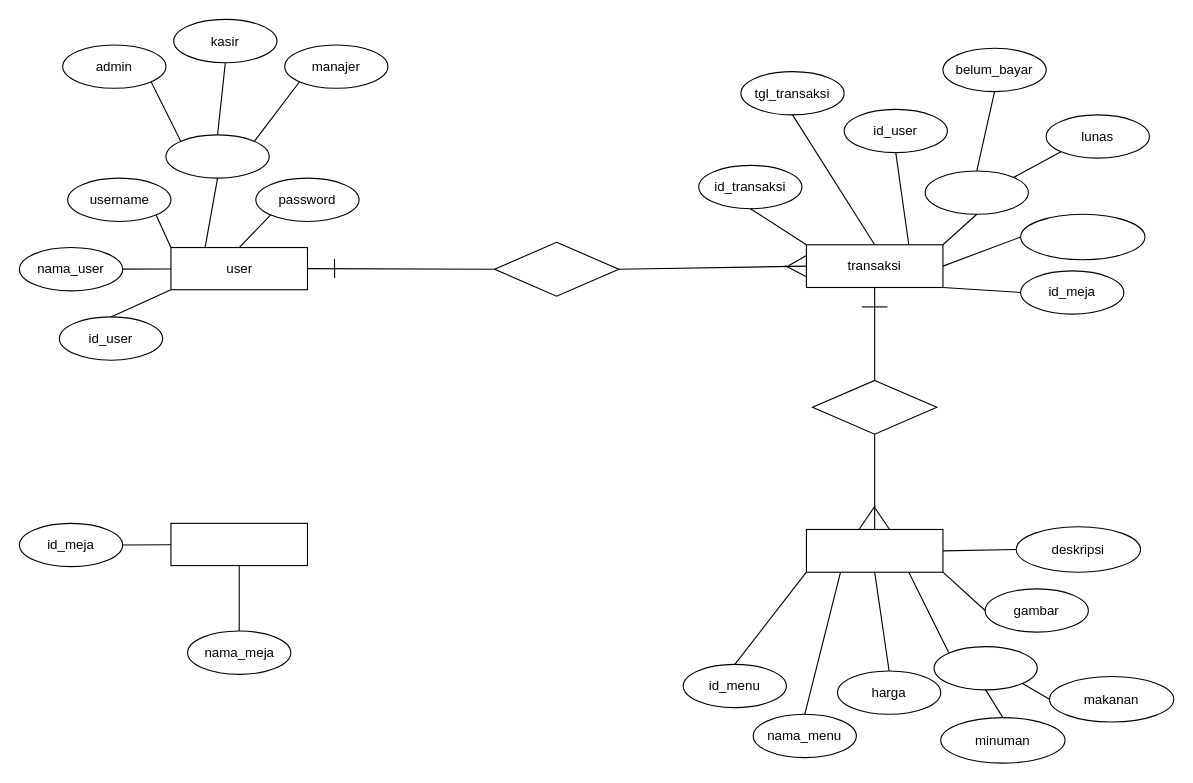
Some shapes in this 1193 by 783 pixel diagram are drawn without their labels. The shapes that lost their labels are listed below. From the top down, each one's centre as x and y in pixels, then its label:
[217,156]: role
[976,192]: status
[1082,236]: nama_pelanggan
[556,268]: melakukan
[874,406]: pemesanan
[238,544]: meja
[874,550]: menu
[985,667]: jenis
